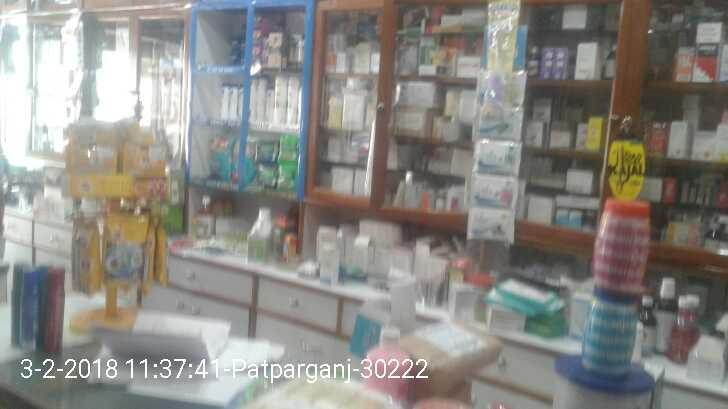beauty: (275, 77, 286, 125), (289, 80, 297, 124), (250, 81, 258, 122), (265, 87, 273, 124), (221, 81, 228, 120), (231, 83, 238, 121)
pharmacy: (208, 133, 231, 181), (256, 165, 277, 186), (257, 140, 277, 162), (280, 166, 297, 191), (280, 137, 297, 160), (232, 36, 240, 65)
